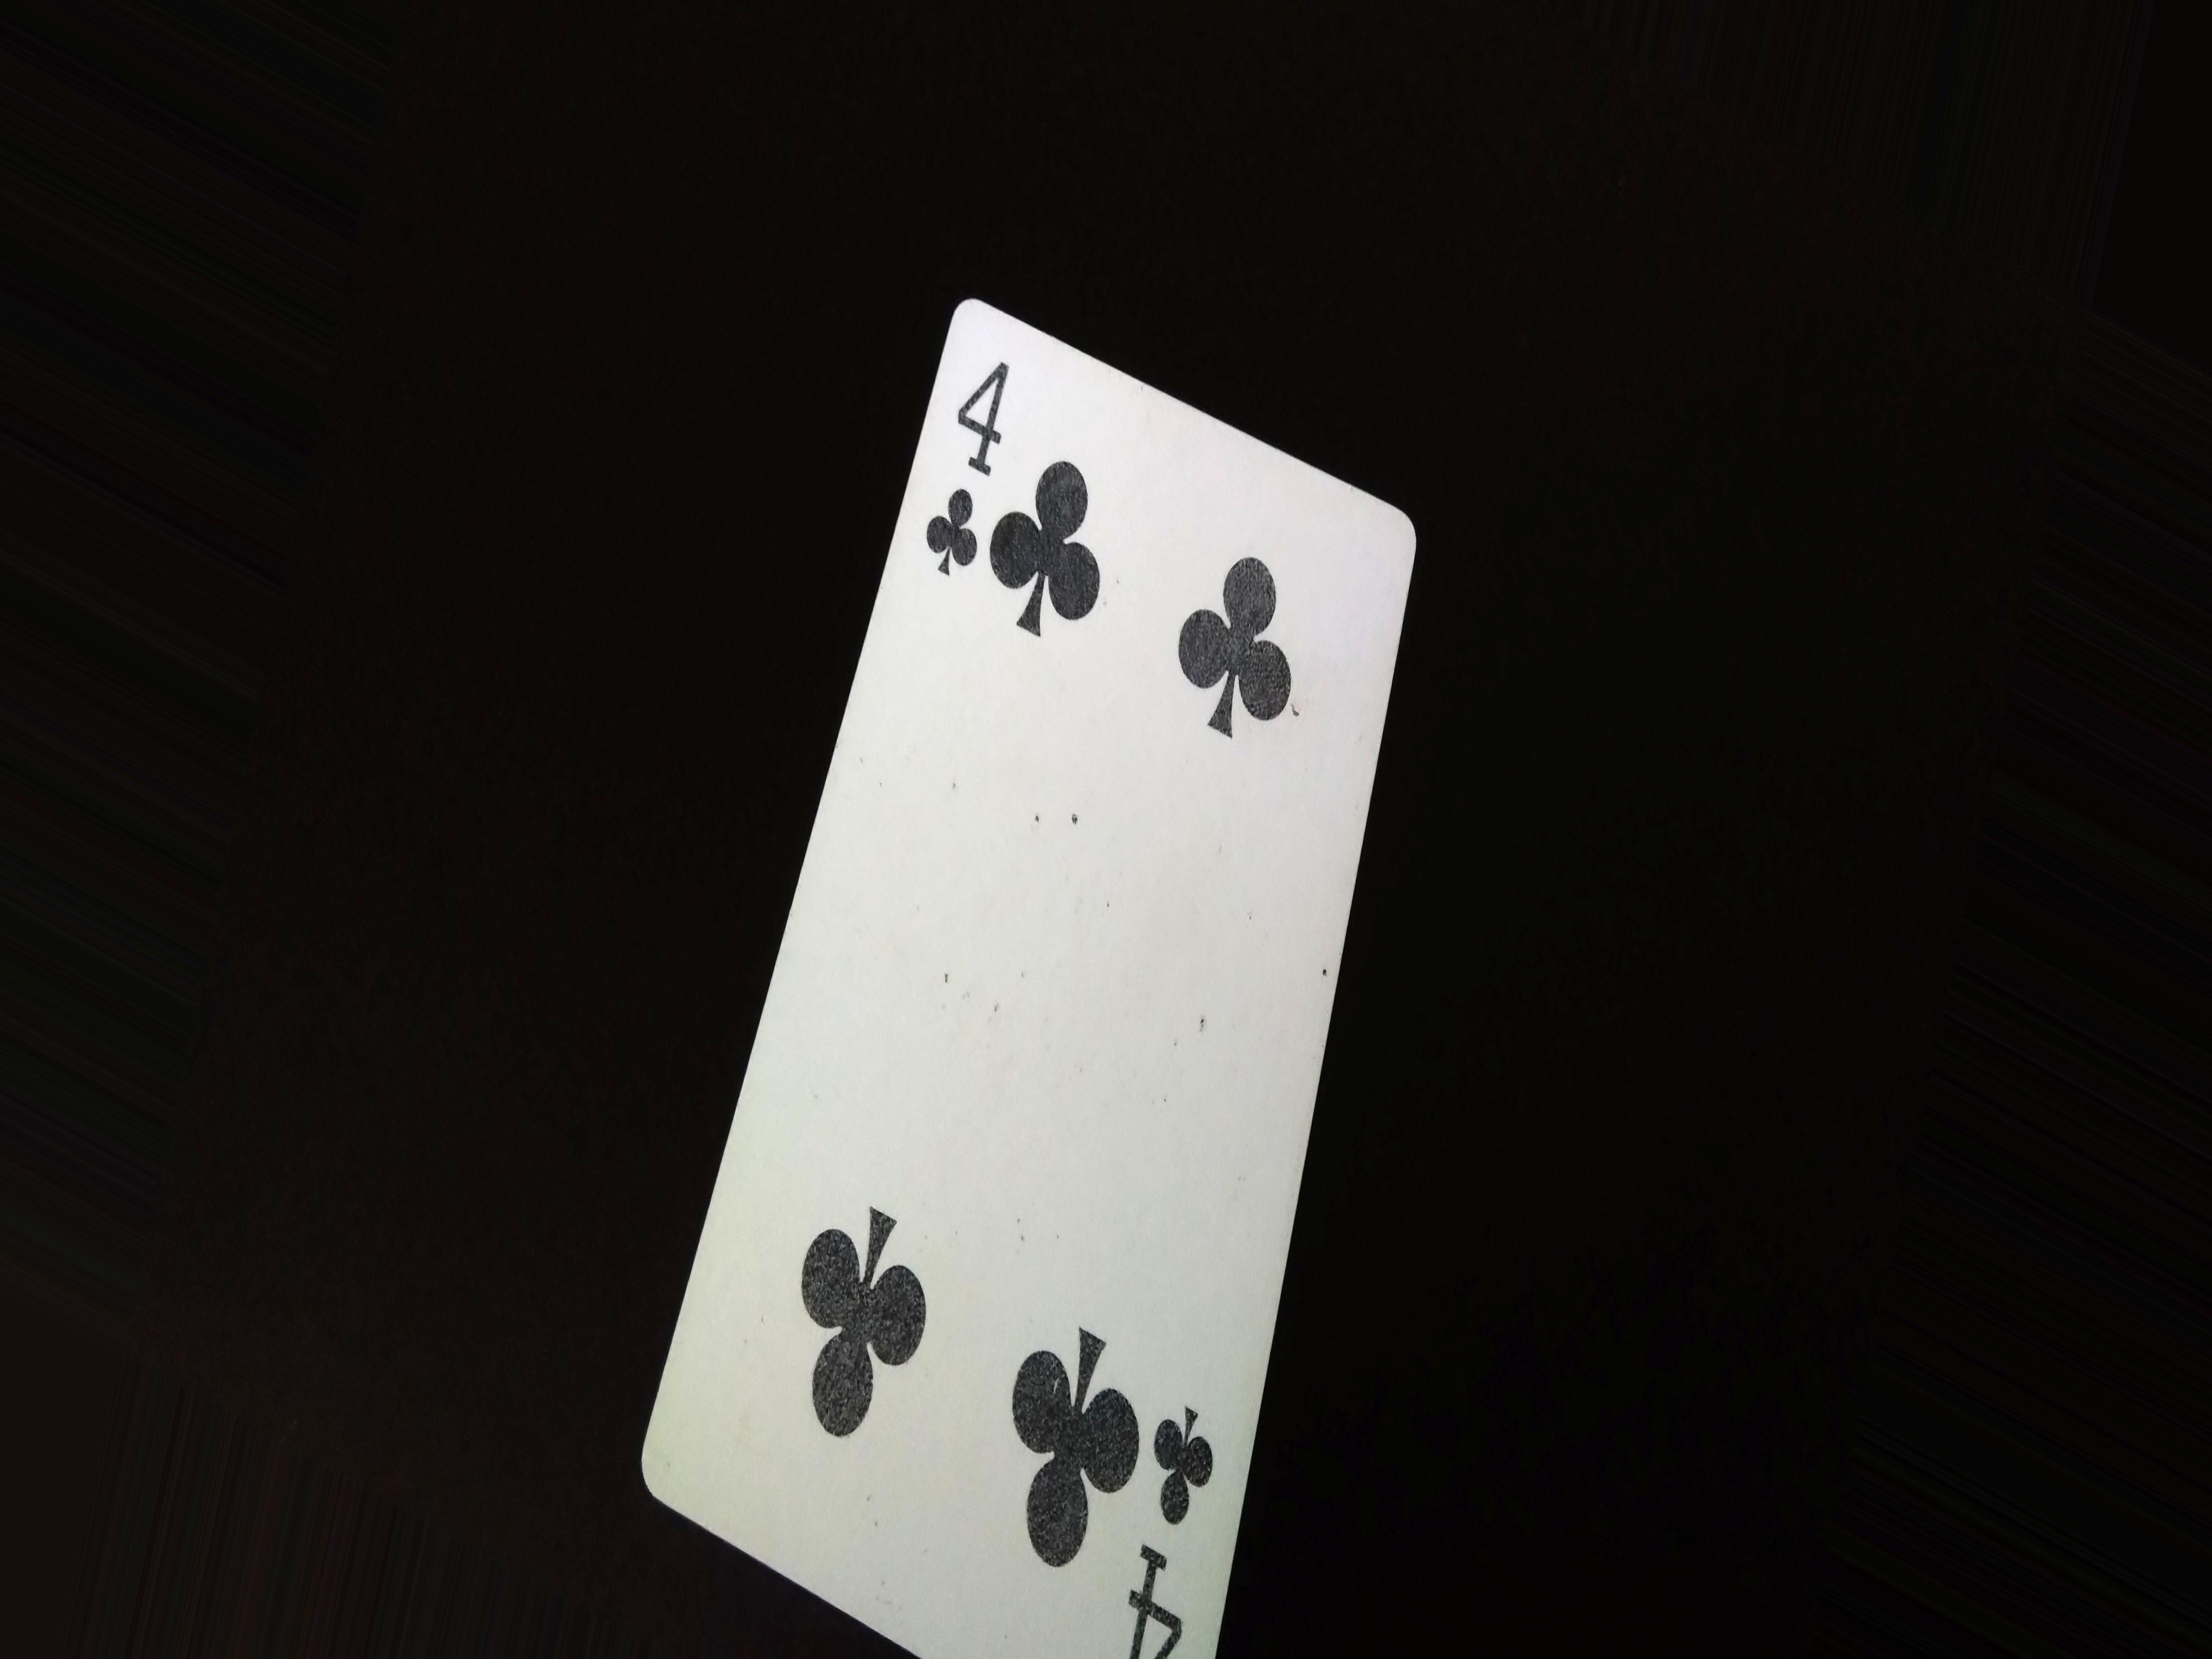4C: (923, 342, 1033, 603)
